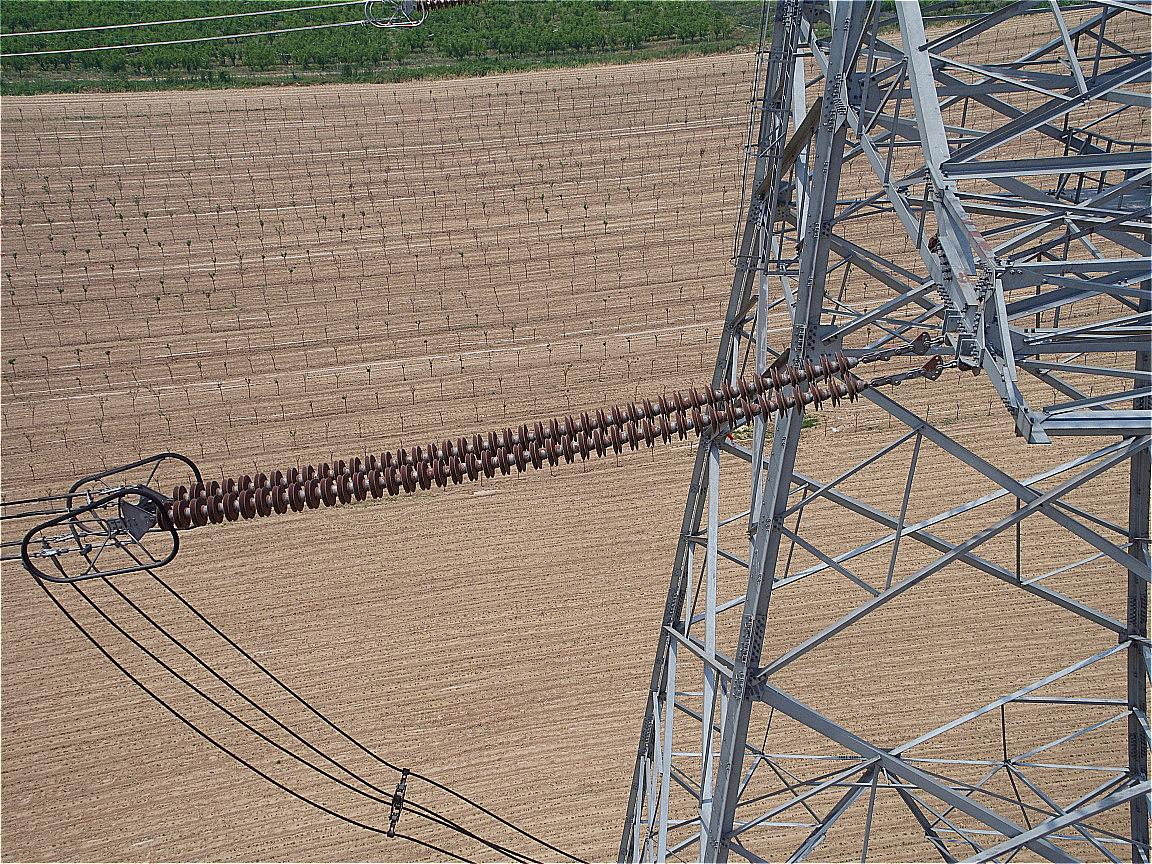insultor2: (154, 347, 859, 534)
